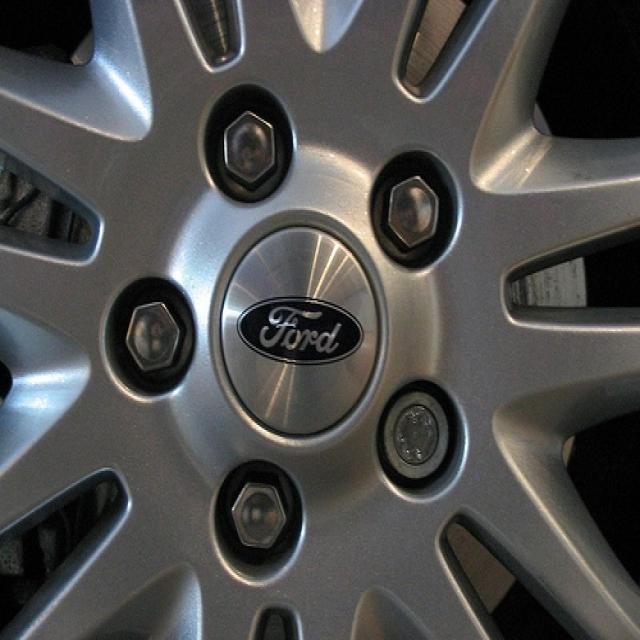ford: (236, 291, 366, 370)
